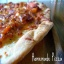pizza: (1, 1, 54, 63)
